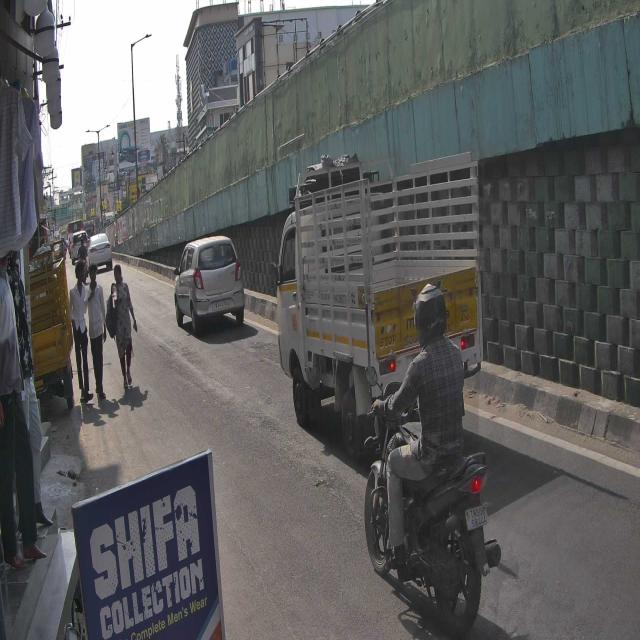single_rider: (362, 279, 503, 636)
